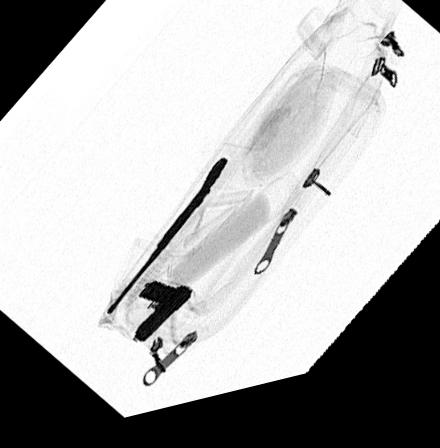Gun: (103, 162, 234, 326)
